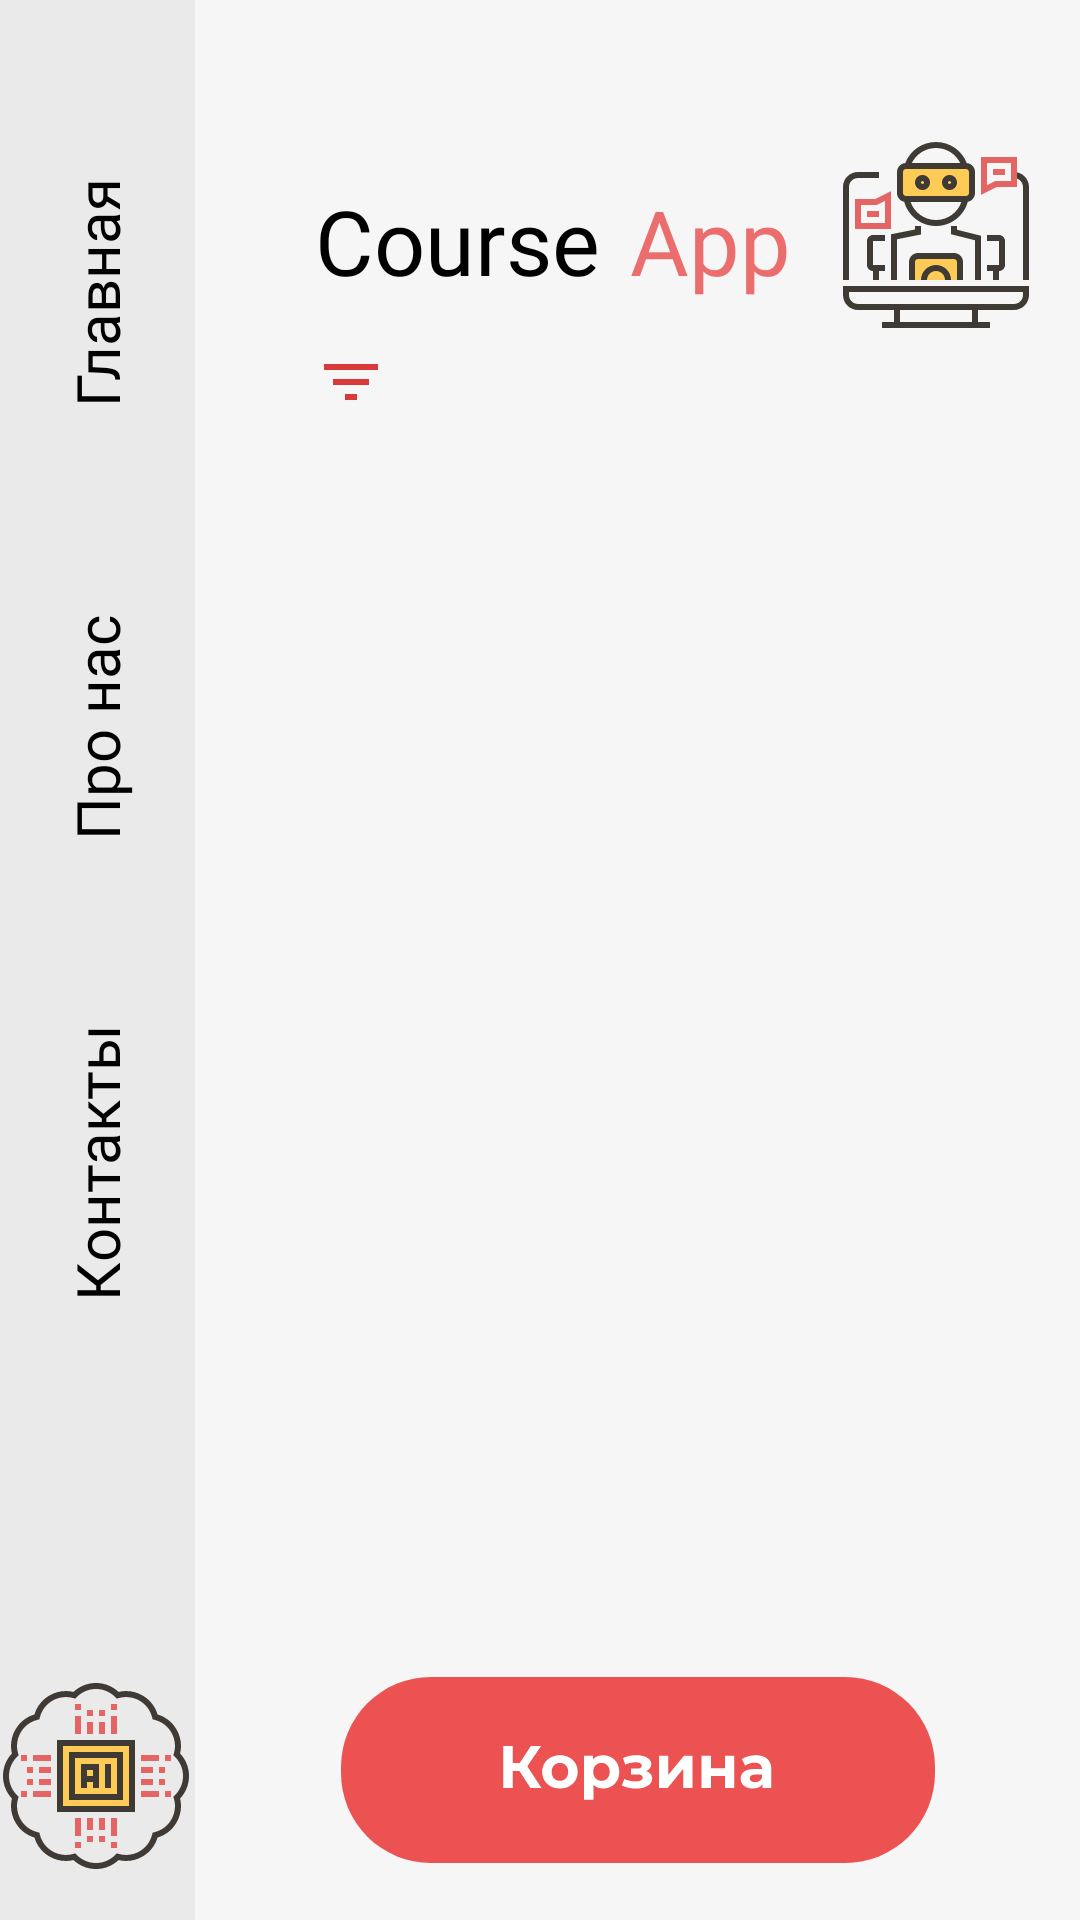

Point at icon controls on the screen. Image size 1080px x 1920px, points as [x,y].
artificial robotics: [936,235]
filter list: [351,382]
robotics brain: [96,1776]
